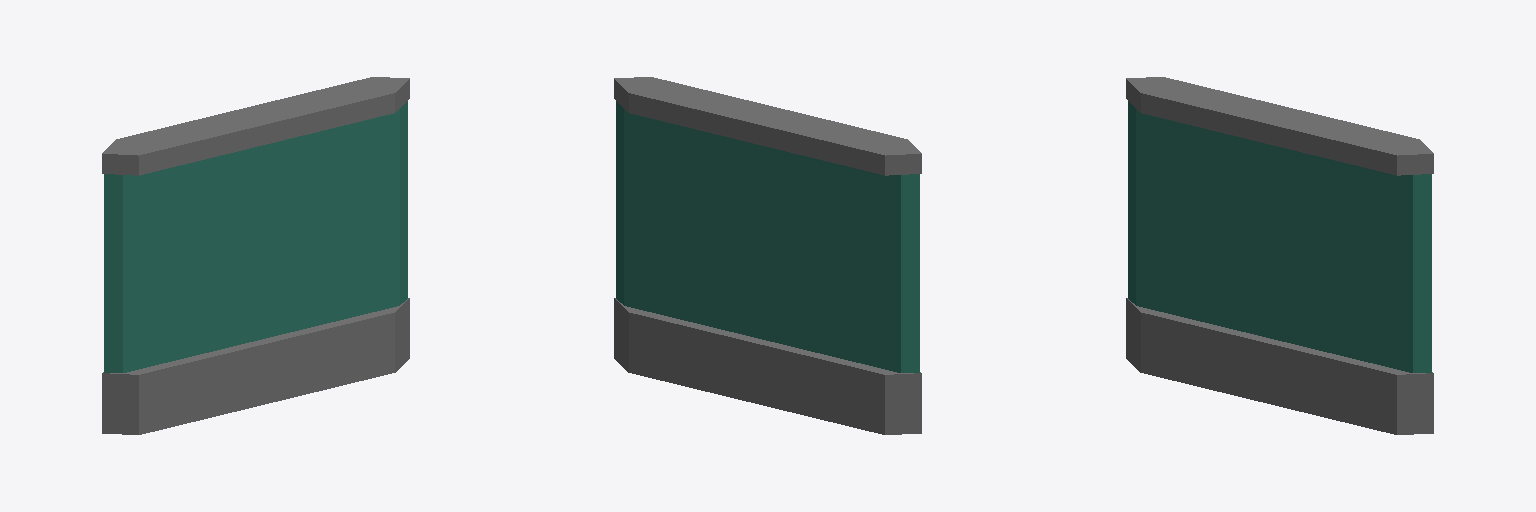
Rendered from wall_straight.obj.
3 views of the same model, side by side, from view 1: azimuth 30°, elevation 25°; view 2: azimuth 150°, elevation 25°; view 3: azimuth 330°, elevation 25° (orthographic).
Parts seen in each view (by area): view 1: object1.002, object1.001, object1; view 2: object1.002, object1.001, object1; view 3: object1.002, object1.001, object1.
Part boxes in pixels (left/top/right/bottom): object1.002: left=104, top=101, right=407, bottom=372; object1.001: left=102, top=298, right=409, bottom=434; object1: left=102, top=77, right=409, bottom=175; object1.002: left=616, top=101, right=919, bottom=372; object1.001: left=614, top=298, right=921, bottom=434; object1: left=614, top=77, right=921, bottom=175; object1.002: left=1128, top=101, right=1431, bottom=372; object1.001: left=1126, top=298, right=1433, bottom=434; object1: left=1126, top=77, right=1433, bottom=175.
Bounding box in the file's own units: 1.6 × 1.39 × 0.2.